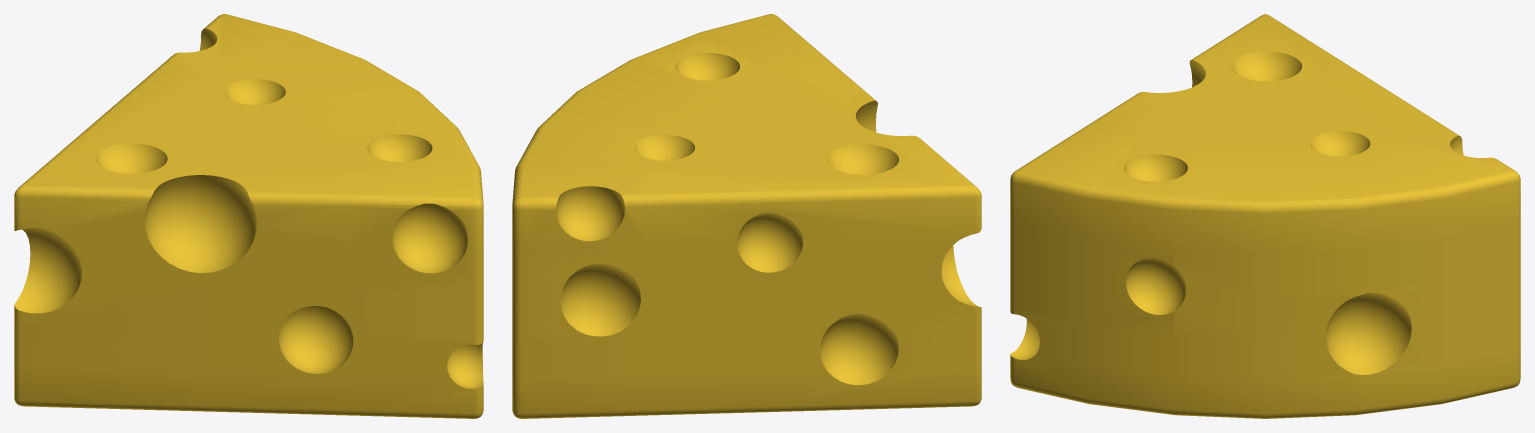
The model's file is quesitoRL 1.fbx.
3 renders of one model, left to right at view 1: azimuth 30°, elevation 25°; view 2: azimuth 150°, elevation 25°; view 3: azimuth 270°, elevation 25°, orthographic.
Parts seen in each view (by area): view 1: Circle; view 2: Circle; view 3: Circle.
Boxes of the visible parts, <box> form: Circle: <box>14,14,483,418</box>; Circle: <box>512,14,981,418</box>; Circle: <box>1010,14,1520,418</box>.
Size of the model in its own units: 99.08 by 51.36 by 109.
